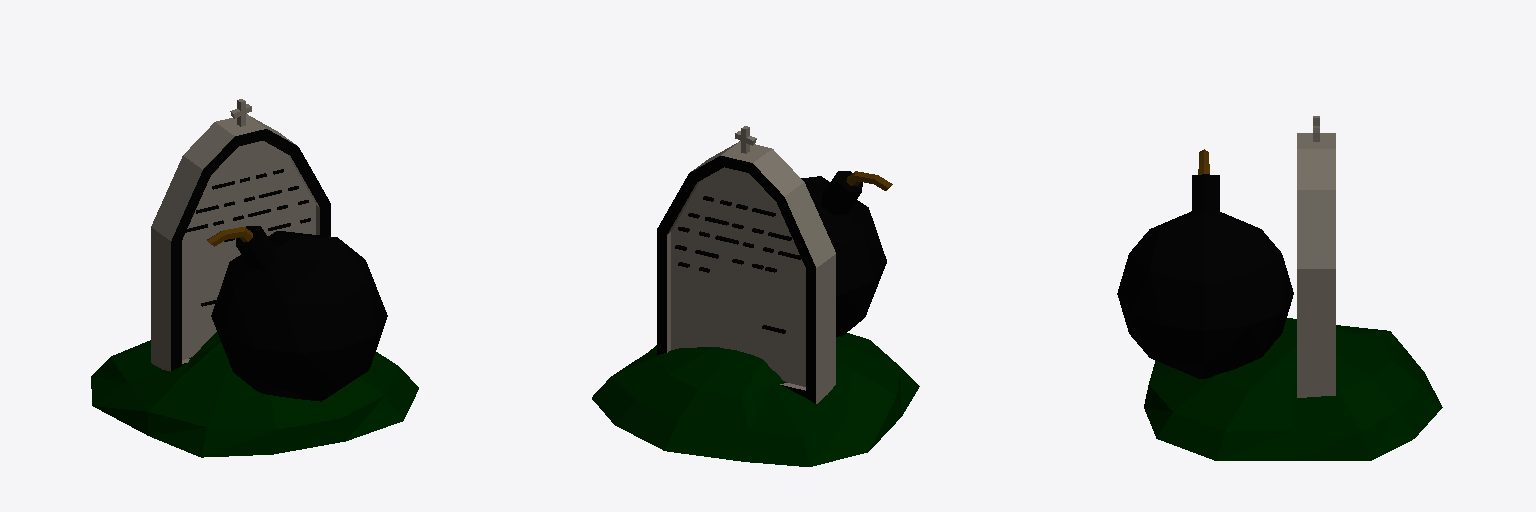
Rendered from death.obj.
3 views of the same model, side by side, from view 1: azimuth 30°, elevation 25°; view 2: azimuth 150°, elevation 25°; view 3: azimuth 270°, elevation 25° (orthographic).
Visible parts, largest first — view 1: Box001, Cone001, GeoSphere001, Cylinder001; view 2: Box001, Cone001, GeoSphere001, Cylinder001; view 3: Cone001, GeoSphere001, Box001, Cylinder001.
Boxes of the visible parts, <box> form: Box001: <box>151,114,330,371</box>; Cone001: <box>91,332,418,457</box>; GeoSphere001: <box>211,231,387,401</box>; Cylinder001: <box>236,226,276,269</box>; Box001: <box>657,141,835,403</box>; Cone001: <box>592,333,919,466</box>; GeoSphere001: <box>801,176,886,336</box>; Cylinder001: <box>821,171,862,215</box>; Cone001: <box>1144,318,1442,460</box>; GeoSphere001: <box>1117,208,1293,378</box>; Box001: <box>1297,133,1335,397</box>; Cylinder001: <box>1192,174,1219,210</box>.
Size of the model in its own units: 32.58 by 33.23 by 34.78.